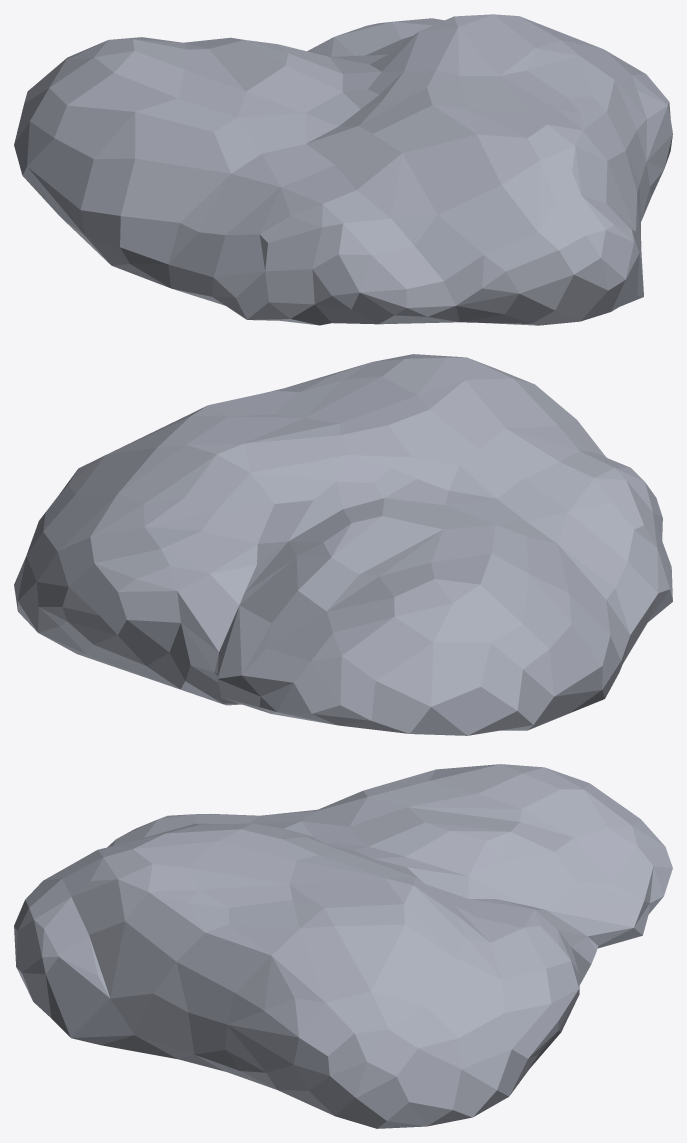
The model's file is rock_2.glb.
3 views of the same model, one above another, from view 1: azimuth 30°, elevation 25°; view 2: azimuth 150°, elevation 25°; view 3: azimuth 270°, elevation 25° (orthographic). The views are drawn at different scales.
Parts seen in each view (by area): view 1: rock_2; view 2: rock_2; view 3: rock_2.
Boxes of the visible parts, <box> form: rock_2: <box>14,14,672,325</box>; rock_2: <box>14,354,672,735</box>; rock_2: <box>14,764,672,1128</box>.
Size of the model in its own units: 4.78 by 1.53 by 5.1.
Materials: 1 (1 with a texture image).
